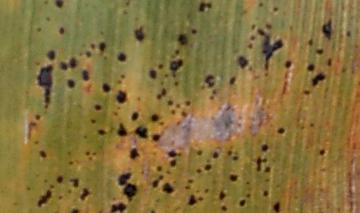tarspot: (254, 27, 284, 71), (36, 64, 54, 109), (116, 171, 138, 201), (37, 189, 53, 207), (320, 19, 333, 41), (169, 60, 184, 77), (134, 124, 149, 140), (26, 121, 37, 141), (311, 73, 326, 87), (133, 25, 146, 41), (115, 90, 128, 104), (162, 182, 176, 195), (116, 122, 128, 137), (110, 203, 127, 213), (128, 147, 140, 161), (204, 74, 216, 88), (79, 187, 91, 201), (237, 55, 248, 70), (198, 2, 213, 13), (67, 177, 80, 189), (155, 87, 167, 100), (187, 193, 198, 207), (177, 33, 188, 46), (256, 156, 264, 172), (151, 132, 162, 143), (271, 201, 281, 213), (66, 77, 76, 89), (59, 60, 69, 72), (148, 68, 157, 81), (305, 62, 315, 73), (116, 52, 126, 63), (101, 82, 111, 93), (130, 111, 140, 122), (45, 49, 56, 59), (38, 149, 48, 160), (228, 173, 238, 184), (81, 69, 90, 81), (218, 190, 227, 202), (68, 56, 76, 69), (203, 162, 213, 172), (98, 42, 107, 53), (238, 198, 247, 209), (276, 126, 285, 136), (260, 143, 269, 153), (228, 76, 237, 86), (92, 103, 102, 112), (150, 113, 160, 122), (325, 57, 333, 68), (167, 150, 178, 158), (169, 158, 177, 169), (301, 88, 312, 96), (263, 165, 272, 174), (98, 28, 107, 37), (55, 175, 65, 183), (152, 178, 160, 188), (84, 50, 92, 60), (54, 1, 65, 8), (318, 148, 326, 157), (190, 27, 198, 36), (315, 48, 324, 56), (220, 204, 229, 212), (165, 98, 173, 107), (178, 110, 187, 118), (264, 22, 273, 30), (44, 15, 52, 24), (154, 164, 164, 171), (70, 207, 81, 213), (249, 33, 255, 44), (262, 190, 270, 198), (211, 150, 219, 158), (195, 149, 203, 157), (89, 117, 97, 125), (173, 48, 181, 56), (183, 99, 191, 107), (118, 72, 126, 80), (58, 26, 65, 35), (284, 60, 291, 69), (306, 37, 313, 46), (89, 41, 96, 50), (66, 159, 75, 166), (96, 129, 106, 135), (186, 178, 196, 184), (34, 113, 41, 121), (195, 167, 202, 175), (197, 195, 204, 203), (211, 88, 218, 96), (246, 42, 253, 50), (345, 30, 352, 38), (173, 80, 180, 88), (135, 94, 142, 102), (91, 150, 98, 158), (33, 139, 41, 146), (111, 111, 119, 118), (115, 105, 123, 112), (157, 173, 164, 180), (175, 120, 182, 127), (272, 6, 279, 13), (257, 1, 264, 8), (157, 62, 164, 69), (84, 149, 91, 156), (86, 154, 93, 161), (82, 133, 89, 140), (48, 183, 55, 190), (260, 158, 268, 164), (170, 108, 176, 116), (158, 79, 164, 87), (36, 25, 42, 33), (24, 185, 32, 191), (102, 54, 108, 62), (183, 185, 191, 191), (245, 179, 251, 187), (250, 23, 255, 32), (42, 1, 51, 6), (232, 155, 239, 161), (226, 149, 232, 156), (174, 103, 180, 110), (115, 79, 122, 85), (122, 9, 128, 16), (57, 194, 64, 200), (308, 122, 315, 128), (204, 187, 209, 195), (209, 93, 214, 101), (163, 72, 169, 78), (124, 1, 130, 7), (42, 178, 48, 184), (245, 192, 251, 198), (149, 209, 156, 213)
